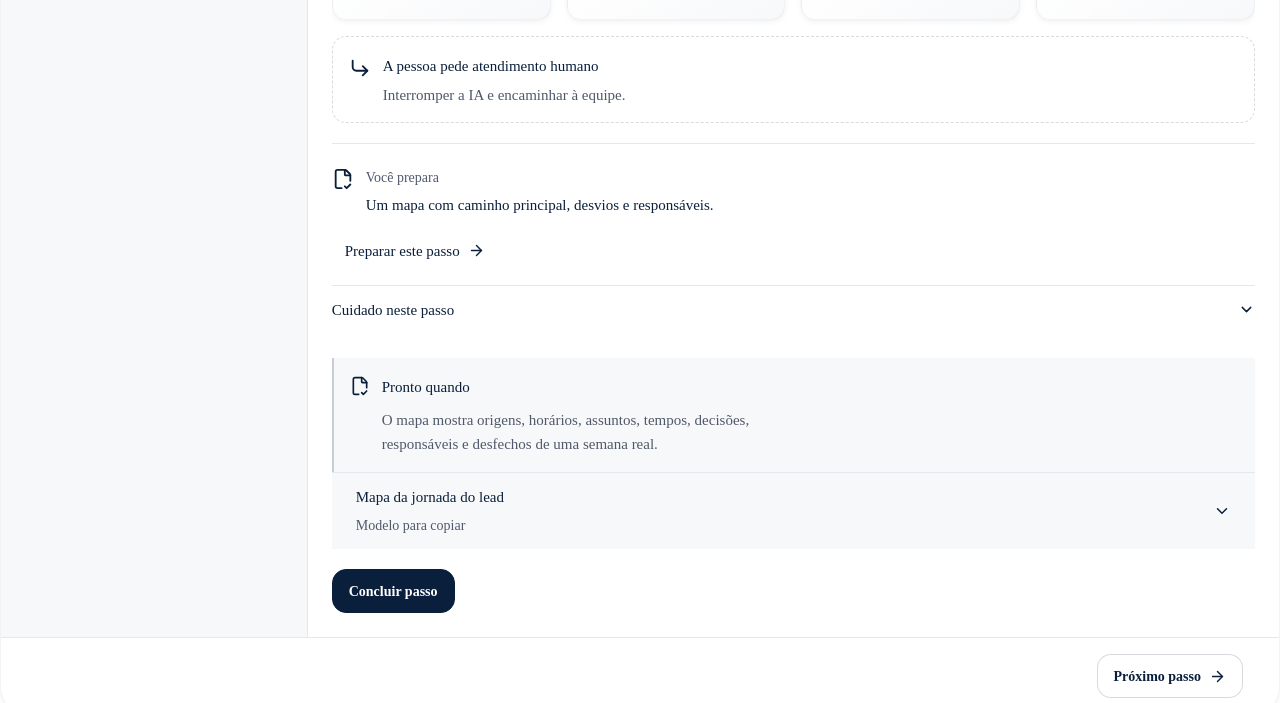
Test: Navegação da implementação › percorre cada passo antes de mudar de fase, sem concluir tarefas ao navegar
(page scrolled)
Expected: the button "Anterior" is not shown
Click the button "Próximo passo" at [1170, 676], box [1096,654,1243,698]
(page scrolled)
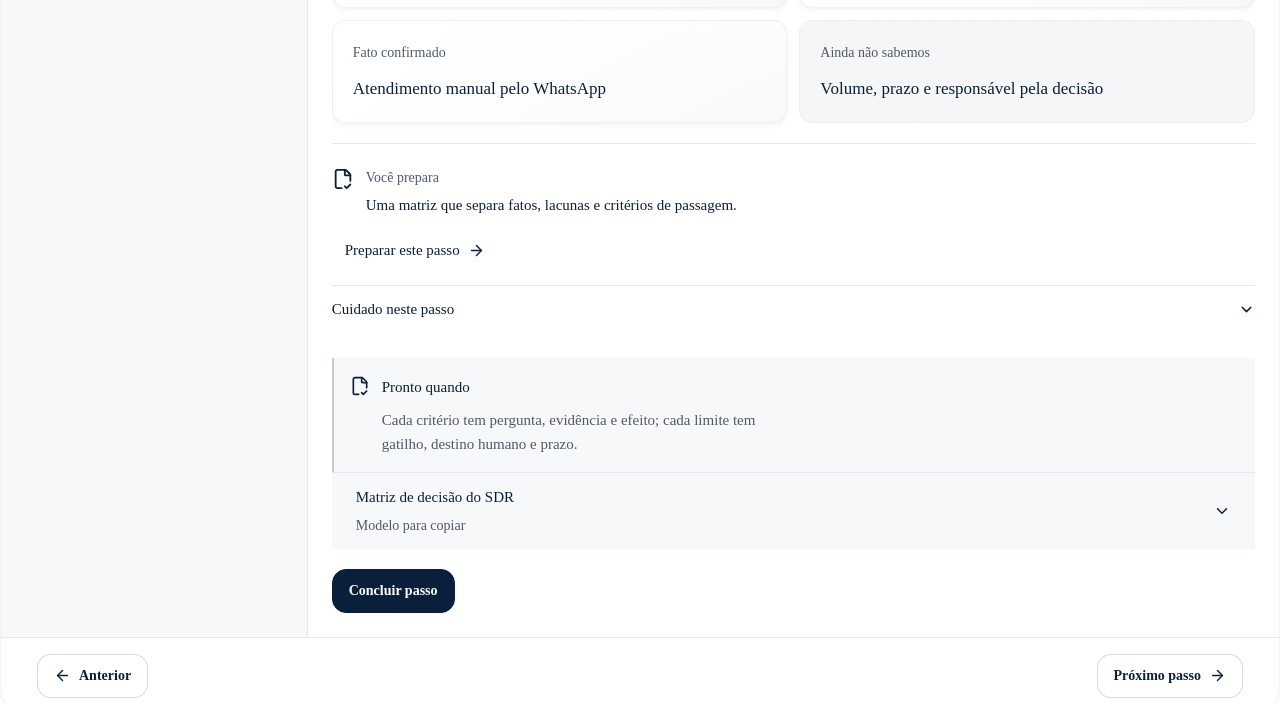
Click the button "Próximo passo" at [1170, 676], box [1096,654,1243,698]
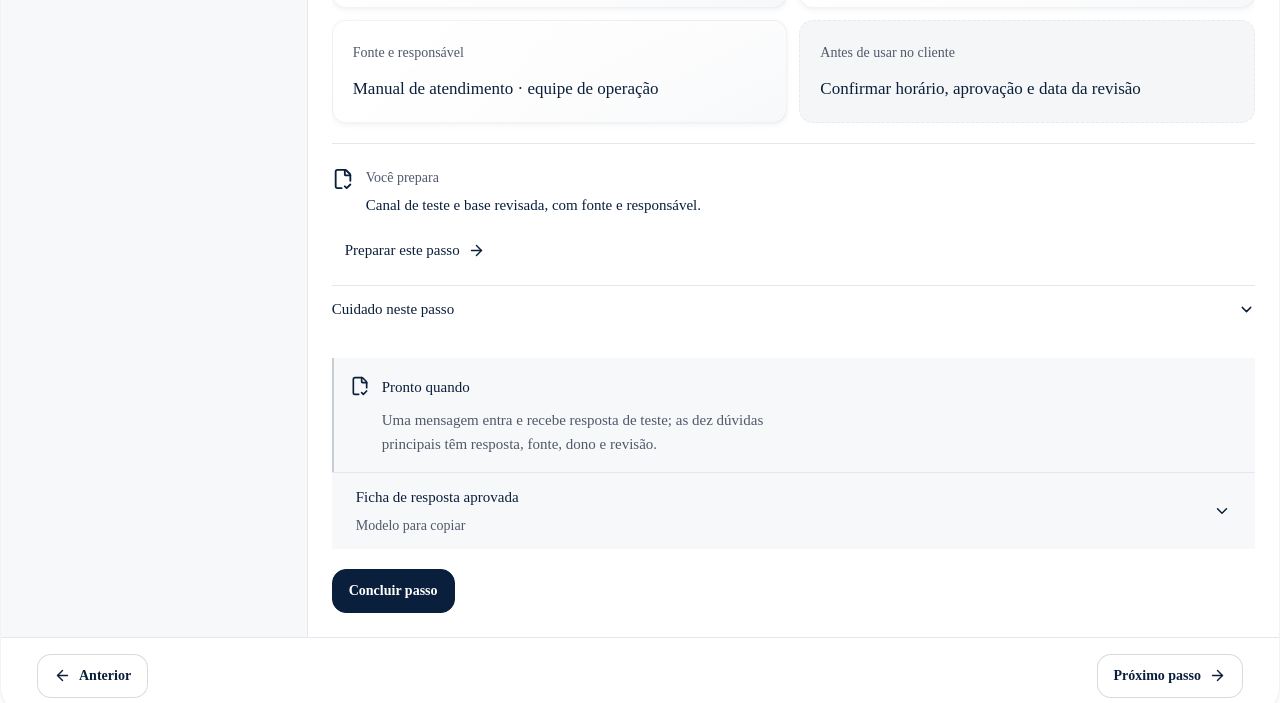
Click the button "Anterior" at [93, 676], box [37,654,148,698]
(page scrolled)
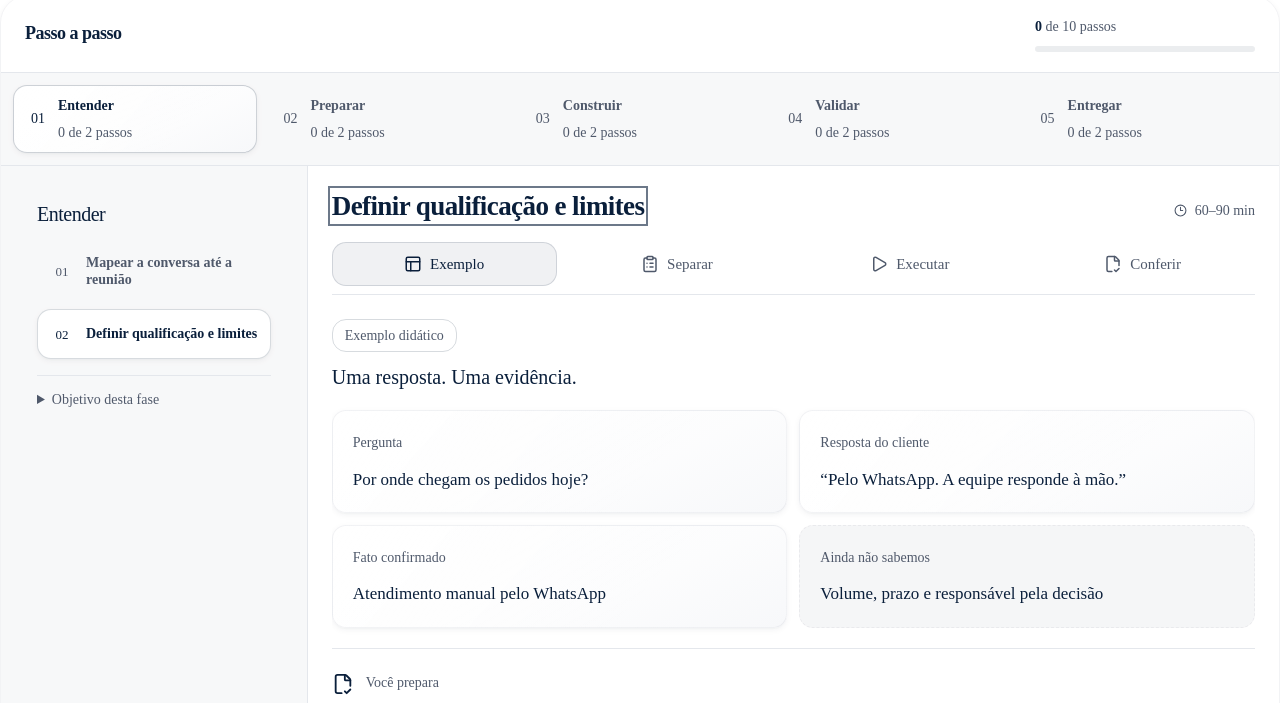
Expected: the heading "Definir qualificação e limites" is shown, [332,190,644,222]
